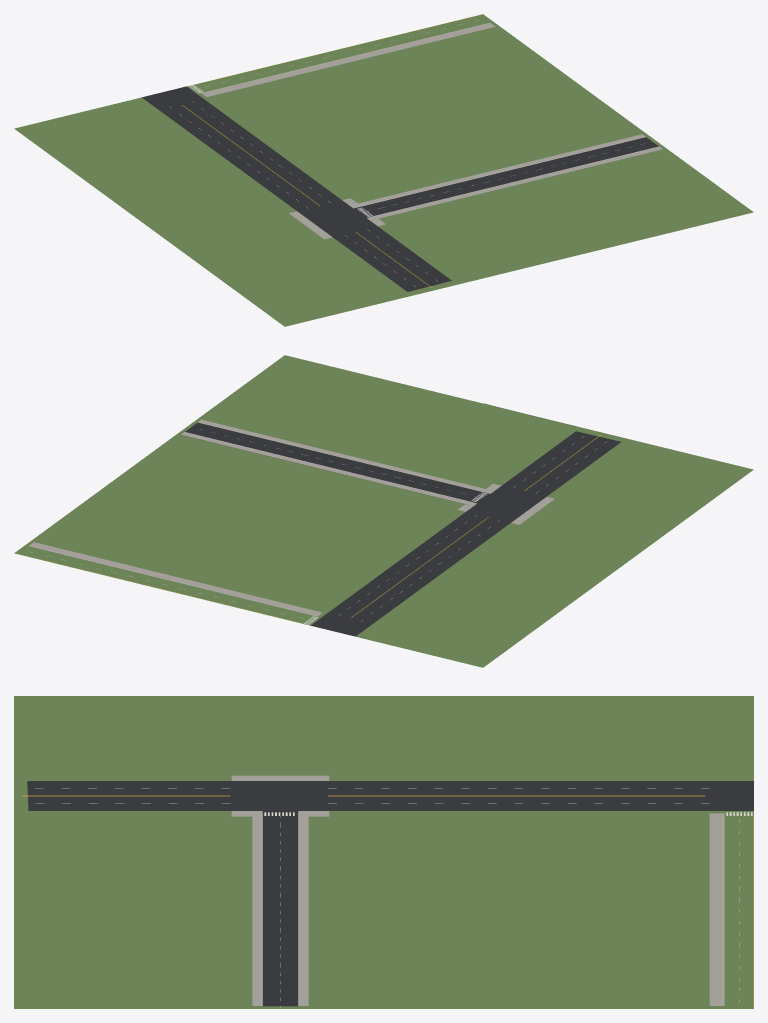
File: Ground_0_3.fbx
3 renders of one model, top to bottom at view 1: azimuth 30°, elevation 25°; view 2: azimuth 150°, elevation 25°; view 3: azimuth 270°, elevation 25°, orthographic. The views are drawn at different scales.
Visible parts, largest first — view 1: Ground_0_3; view 2: Ground_0_3; view 3: Ground_0_3.
Part boxes in pixels (x1,y1,x2,y2): Ground_0_3: (14,14,753,326); Ground_0_3: (14,355,753,667); Ground_0_3: (14,696,753,1008).
Size of the model in its own units: 250 by 0.14 by 250.
